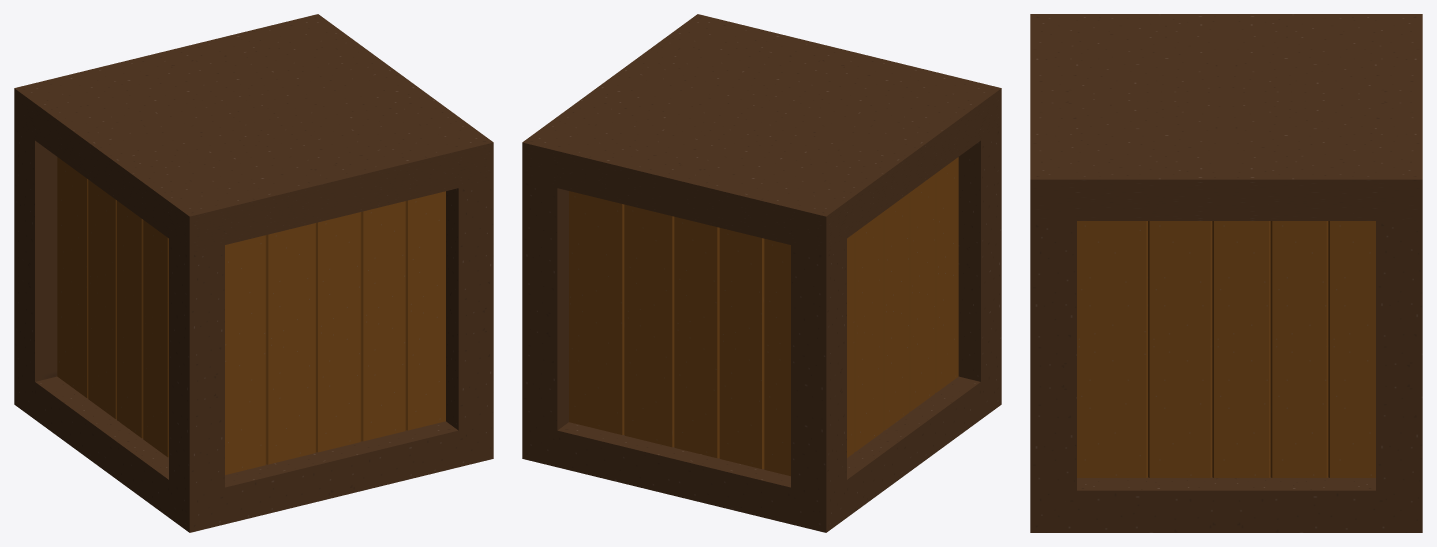
File: breakeableBox.fbx
3 renders of one model, left to right at view 1: azimuth 30°, elevation 25°; view 2: azimuth 150°, elevation 25°; view 3: azimuth 270°, elevation 25°, orthographic. The views are drawn at different scales.
Visible parts, largest first — view 1: Cube.005, Cube, Cube.003, Cube.002; view 2: Cube.005, Cube, Cube.001, Cube.002; view 3: Cube.005, Cube.004, Cube.
Boxes of the visible parts, bbox=[...] form: Cube.005: bbox=[14, 14, 493, 253]; Cube: bbox=[14, 123, 493, 532]; Cube.003: bbox=[225, 191, 445, 474]; Cube.002: bbox=[57, 157, 168, 457]; Cube.005: bbox=[522, 14, 1001, 253]; Cube: bbox=[522, 125, 1001, 532]; Cube.001: bbox=[569, 191, 790, 476]; Cube.002: bbox=[847, 157, 958, 457]; Cube.005: bbox=[1030, 14, 1422, 220]; Cube.004: bbox=[1077, 221, 1375, 477]; Cube: bbox=[1030, 218, 1422, 532].
Bounding box in the file's own units: 200 × 199 × 200.
